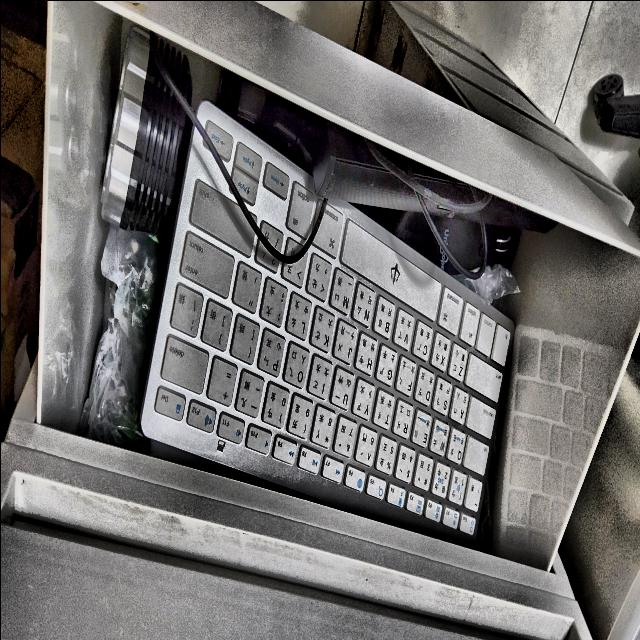Keyboard: (140, 131, 514, 547), (198, 102, 314, 252)
